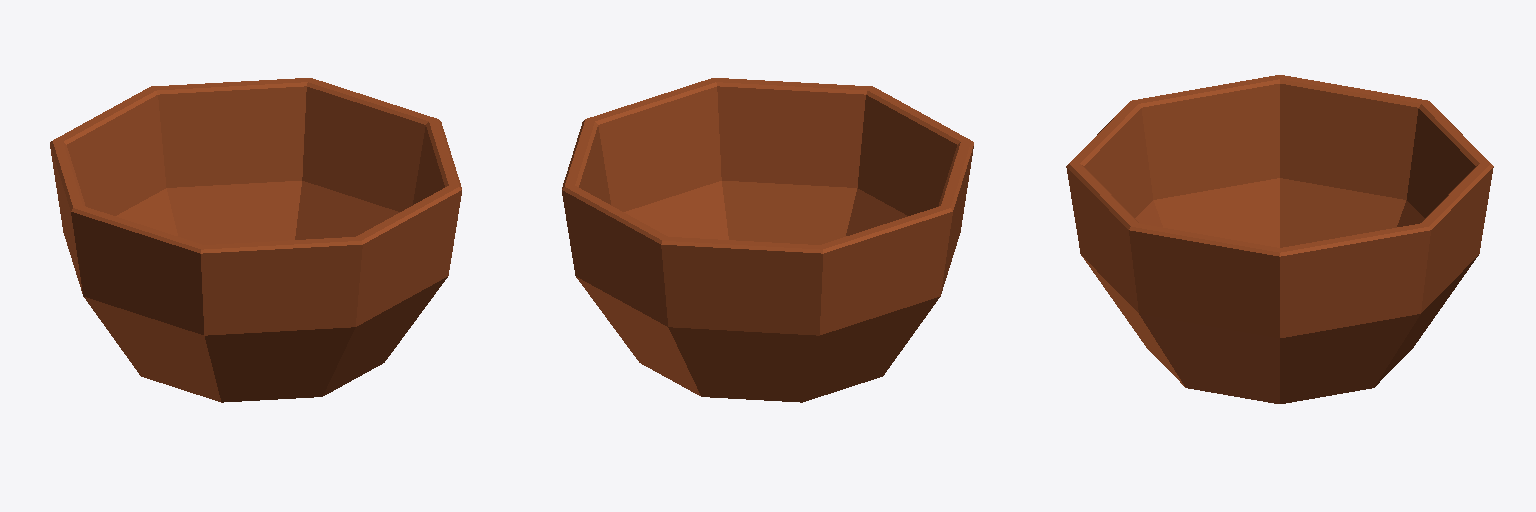
Rendered from Bowl1.obj.
3 views of the same model, side by side, from view 1: azimuth 30°, elevation 25°; view 2: azimuth 150°, elevation 25°; view 3: azimuth 270°, elevation 25° (orthographic).
Parts seen in each view (by area): view 1: Bowl1_Cylinder; view 2: Bowl1_Cylinder; view 3: Bowl1_Cylinder.
Boxes of the visible parts, box(x1,y1,x2,y2) form: Bowl1_Cylinder: box(50, 78, 461, 402); Bowl1_Cylinder: box(562, 78, 973, 402); Bowl1_Cylinder: box(1066, 75, 1493, 403).
Size of the model in its own units: 0.248 by 0.1182 by 0.248.